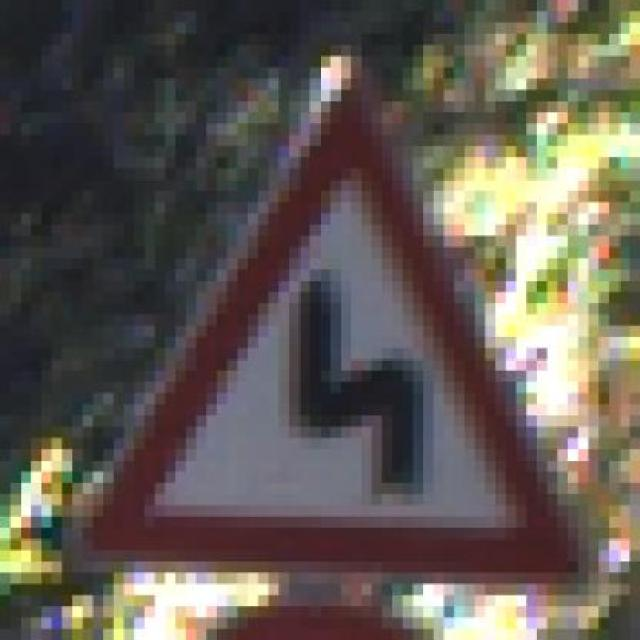Left Zig Zag Traffic: (72, 67, 610, 607)
